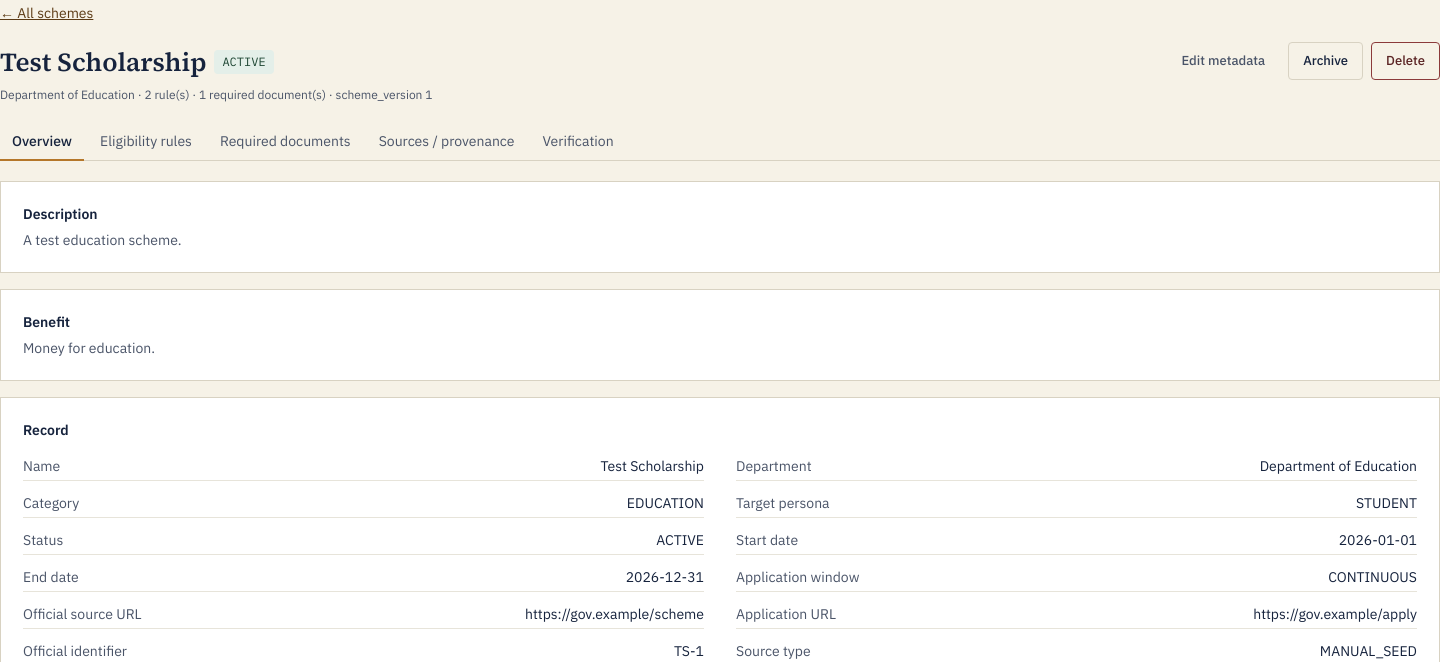
Scenario: overview + metadata editing › saves metadata and never claims verification (server-labelled distinction)
The width and height of the screenshot is (1440, 662).
Expected: the heading "Test Scholarship" is shown, x1=0 y1=42 x2=206 y2=83
Click the button "Edit metadata" at (1223, 61), box x1=1166 y1=42 x2=1280 y2=80
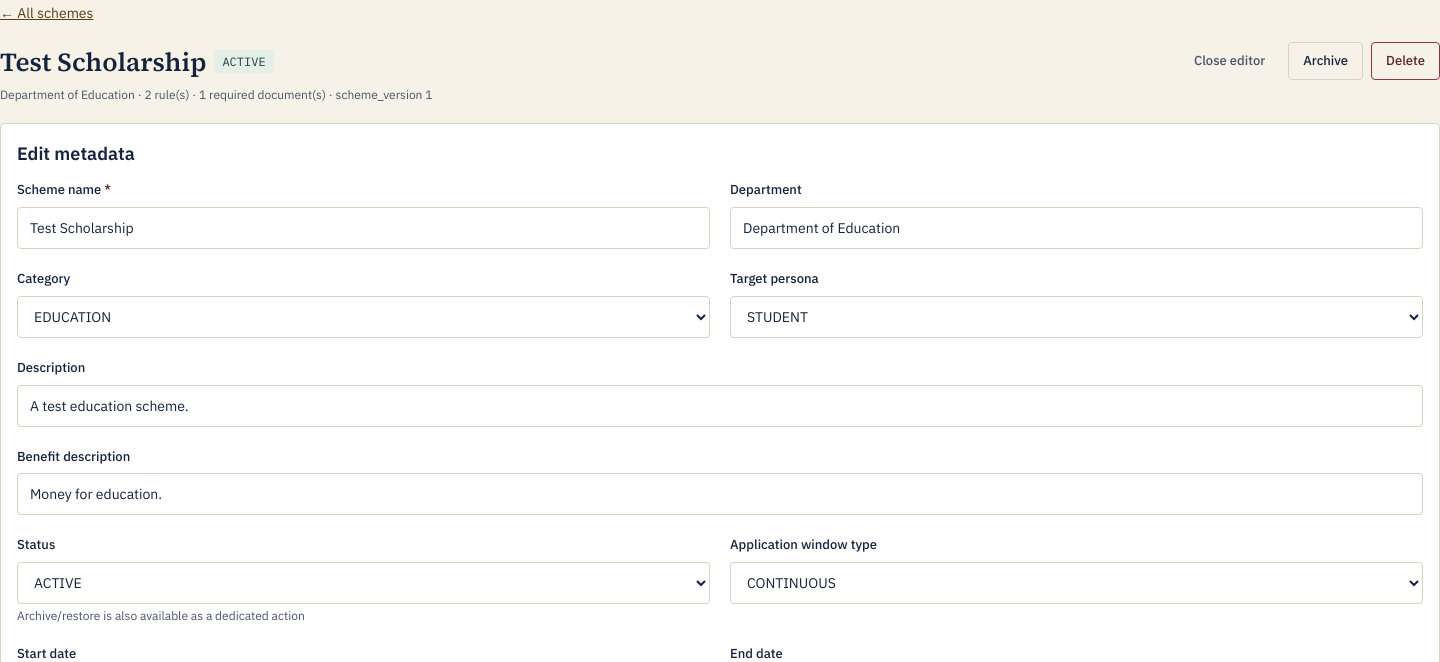
Type " (edited)" into the field labelled "Description" at (720, 406), box x1=17 y1=385 x2=1423 y2=427
(page scrolled)
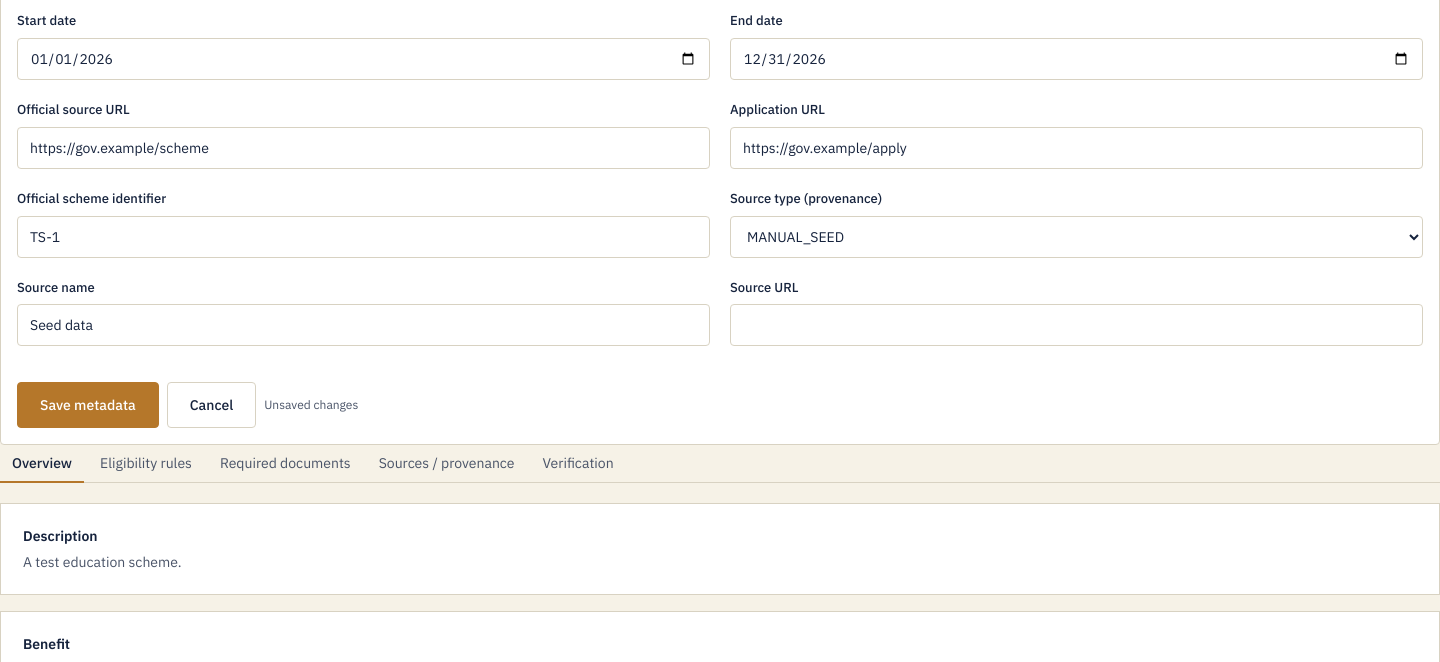
Click the button "Save metadata" at (88, 405), box x1=17 y1=382 x2=159 y2=428
(page scrolled)
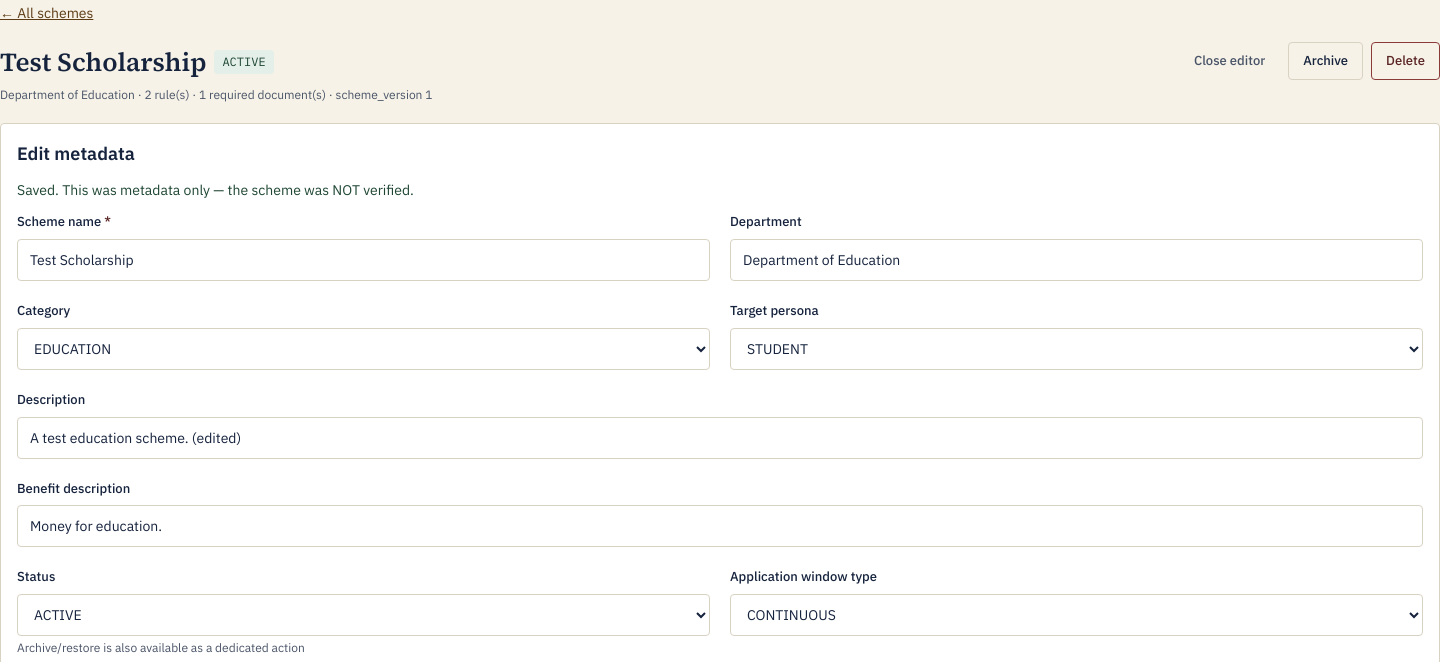
Result: the text "Saved. This was metadata only — the scheme was NOT verified." is shown at x1=17 y1=181 x2=414 y2=199
